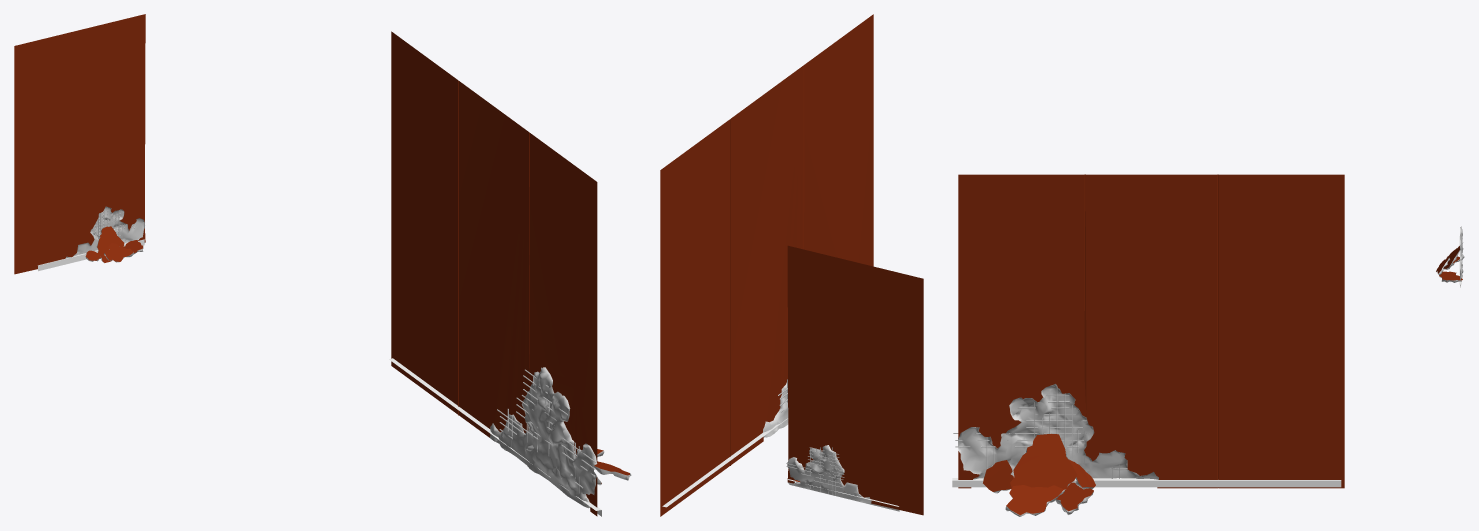
File: SM_H_Building_Tide_Loungehall_01D_ATLAS.fbx
3 renders of one model, left to right at view 1: azimuth 30°, elevation 25°; view 2: azimuth 150°, elevation 25°; view 3: azimuth 270°, elevation 25°, orthographic. The views are drawn at different scales.
Visible parts, largest first — view 1: SM_H_Building_Tide_Loungehall_01D_ATLAS; view 2: SM_H_Building_Tide_Loungehall_01D_ATLAS; view 3: SM_H_Building_Tide_Loungehall_01D_ATLAS.
Part boxes in pixels (left/top/right/bottom): SM_H_Building_Tide_Loungehall_01D_ATLAS: left=14, top=14, right=631, bottom=516; SM_H_Building_Tide_Loungehall_01D_ATLAS: left=660, top=14, right=923, bottom=516; SM_H_Building_Tide_Loungehall_01D_ATLAS: left=952, top=174, right=1464, bottom=516.
Bounding box in the file's own units: 1469 × 1824 × 1302.
